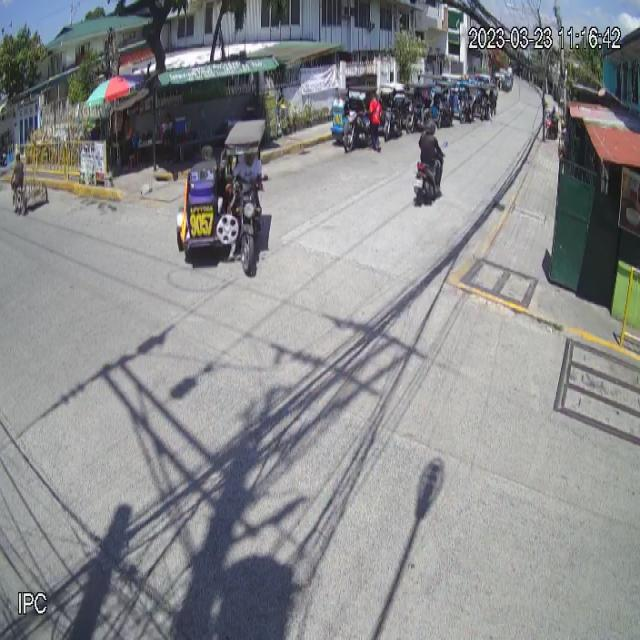Motorcycle: (412, 141, 448, 209)
Tricycle: (176, 117, 270, 276)
